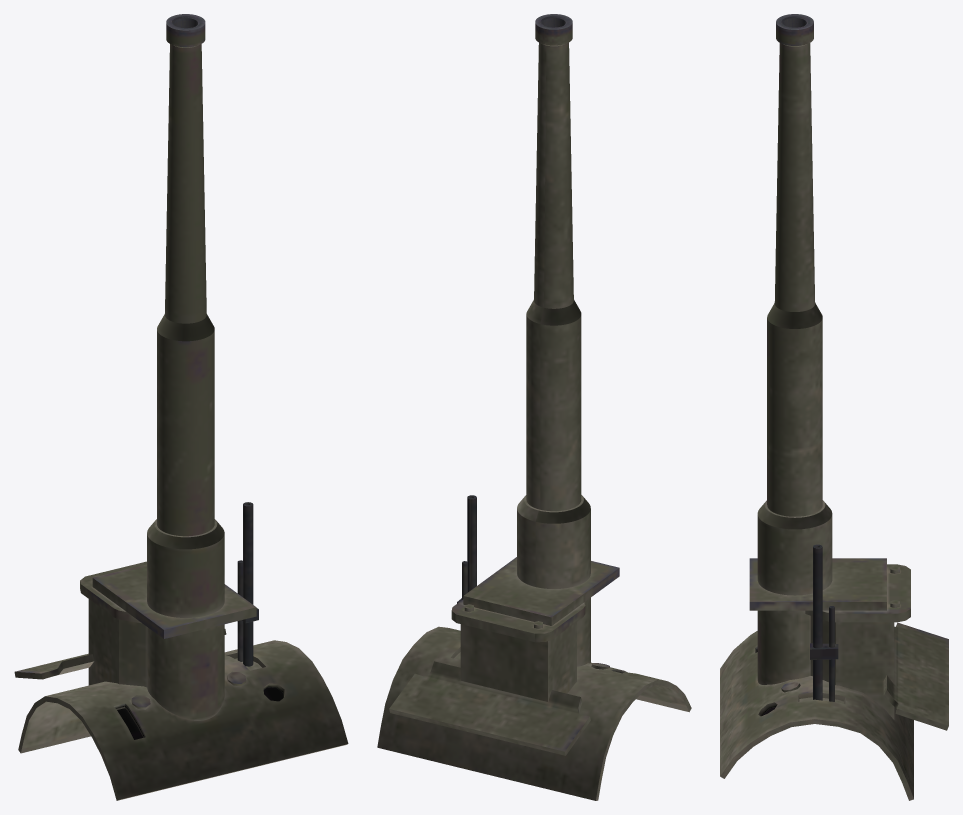
Rendered from Gun_01.glb.
3 views of the same model, side by side, from view 1: azimuth 30°, elevation 25°; view 2: azimuth 150°, elevation 25°; view 3: azimuth 270°, elevation 25° (orthographic). The views are drawn at different scales.
Parts seen in each view (by area): view 1: set_0_group_0; view 2: set_0_group_0; view 3: set_0_group_0.
Boxes of the visible parts, x1=… form: set_0_group_0: x1=14, y1=14, x2=348, y2=800; set_0_group_0: x1=377, y1=14, x2=691, y2=800; set_0_group_0: x1=720, y1=14, x2=948, y2=800.
Bounding box in the file's own units: 0.4787 × 1.49 × 0.4297.
1 material, 1 textured.
